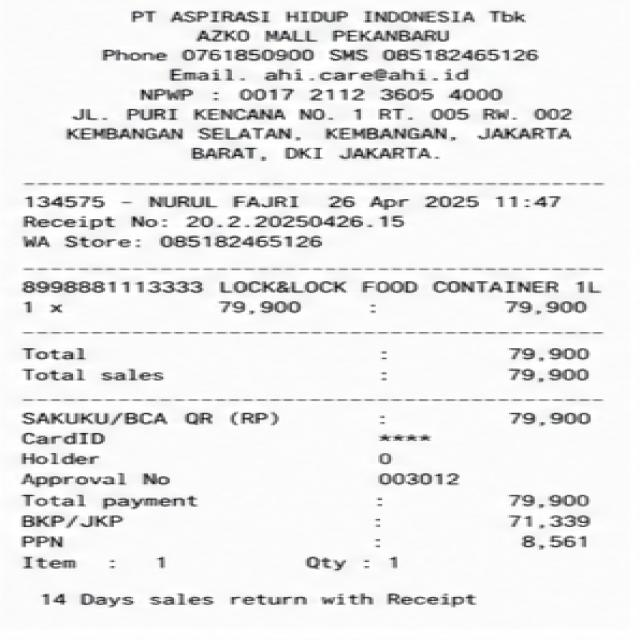date: (324, 190, 567, 212)
store: (127, 5, 543, 44)
total: (16, 488, 594, 512)
